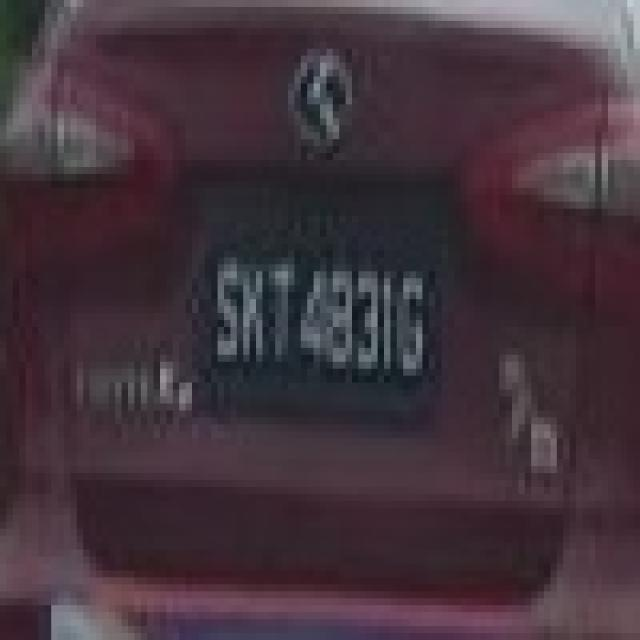1: (379, 272, 395, 372)
3: (355, 268, 379, 368)
4: (302, 265, 326, 365)
8: (328, 268, 354, 368)
G: (396, 274, 426, 378)
K: (242, 262, 267, 362)
S: (214, 260, 239, 363)
T: (265, 264, 299, 358)
